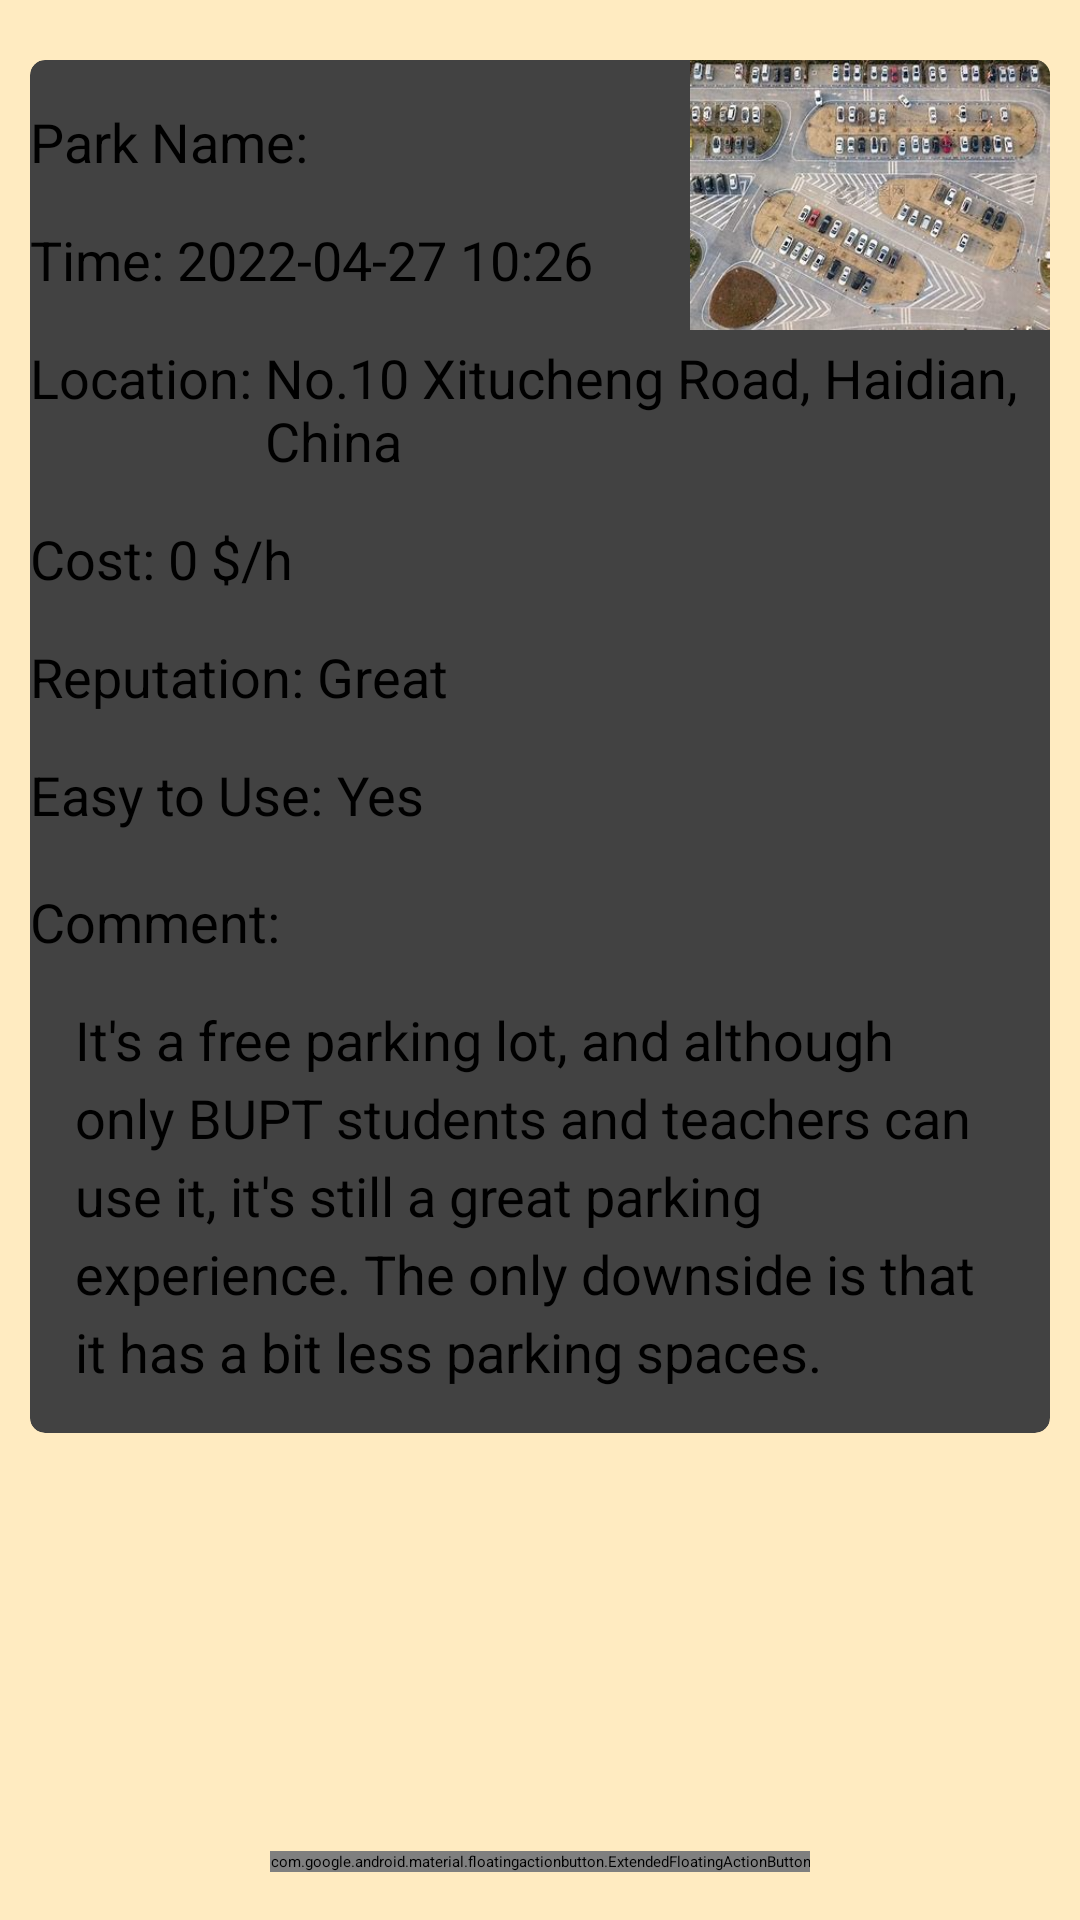

Named icons in this screenshot (1080 x 1920) and their centers, point (x, y):
park: point (870, 195)
